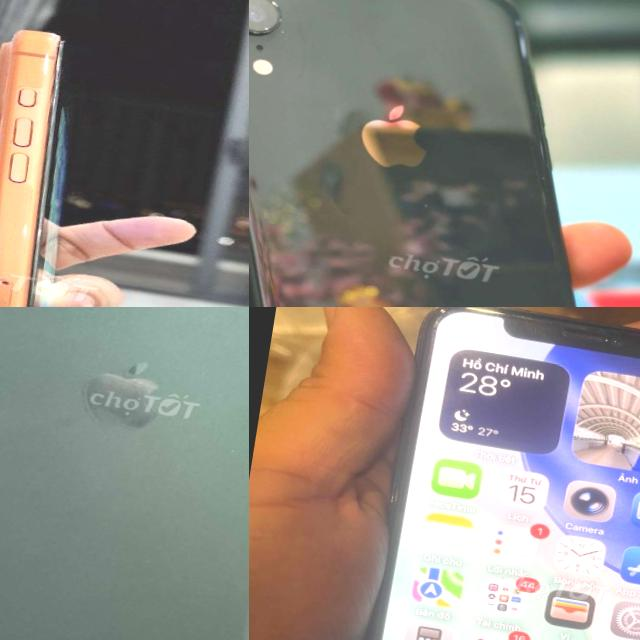physical_damage: (44, 29, 66, 49)
scratch: (10, 215, 42, 248), (266, 8, 293, 36), (411, 197, 439, 216), (265, 0, 284, 17)
